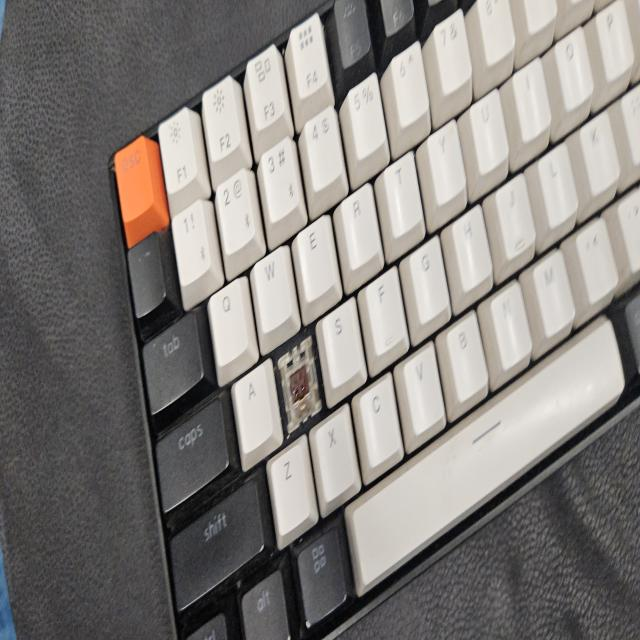C: (280, 354, 320, 409)
